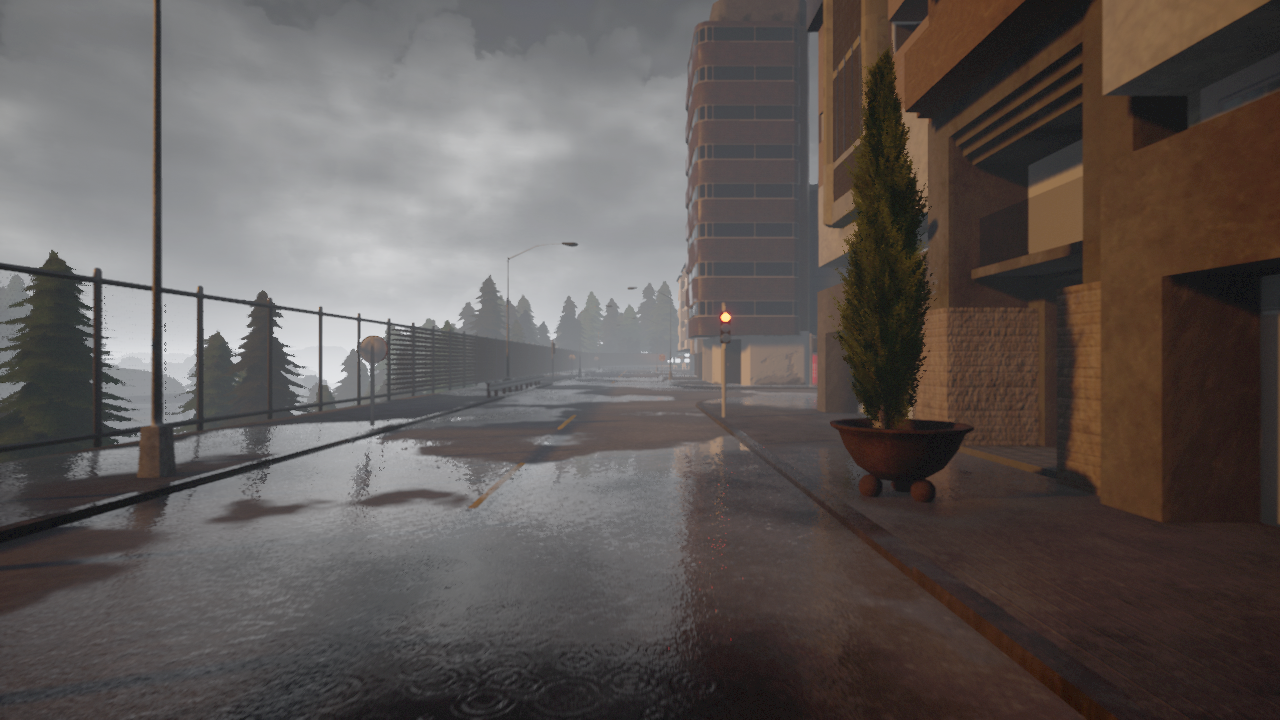red: (719, 309, 734, 344)
